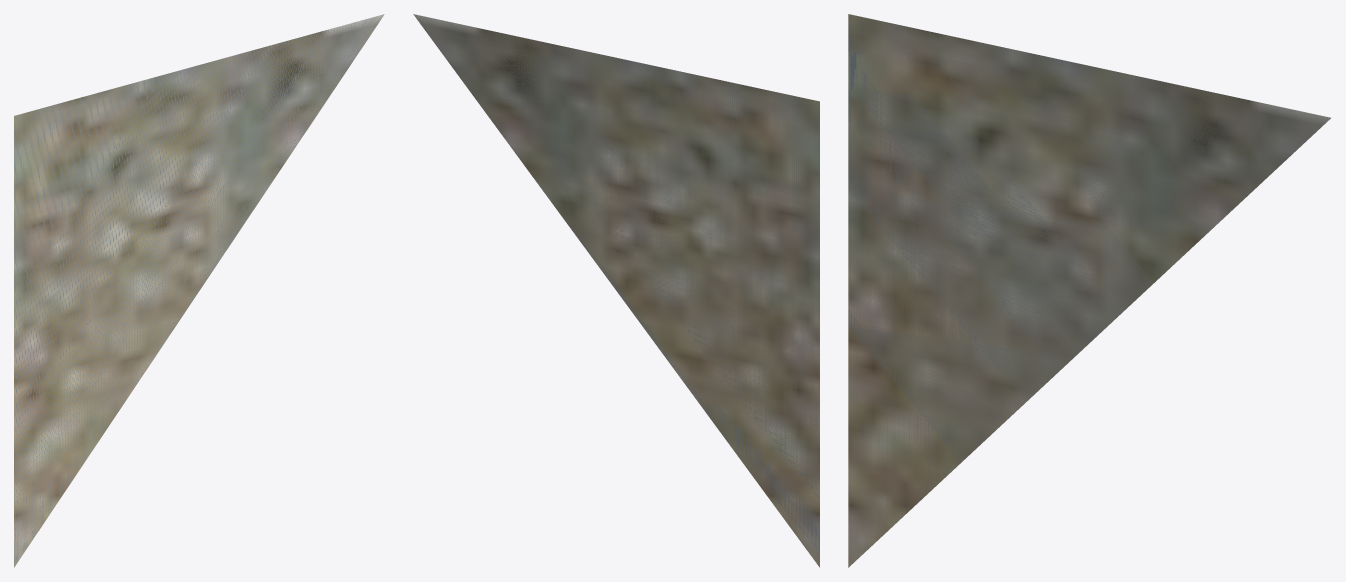
Rendered from 西庸城堡65.dae.
The picture shows the model from 3 angles, left to right: view 1: azimuth 30°, elevation 25°; view 2: azimuth 150°, elevation 25°; view 3: azimuth 330°, elevation 25°; orthographic projection. The views are drawn at different scales.
Visible parts, largest first — view 1: SketchUp; view 2: SketchUp; view 3: SketchUp.
Part boxes in pixels (box(x1,y1,x2,y2)): SketchUp: box(14, 14, 384, 567); SketchUp: box(413, 14, 819, 567); SketchUp: box(848, 14, 1330, 567).
Bounding box in the file's own units: 55.79 × 2.96 × 62.99.
